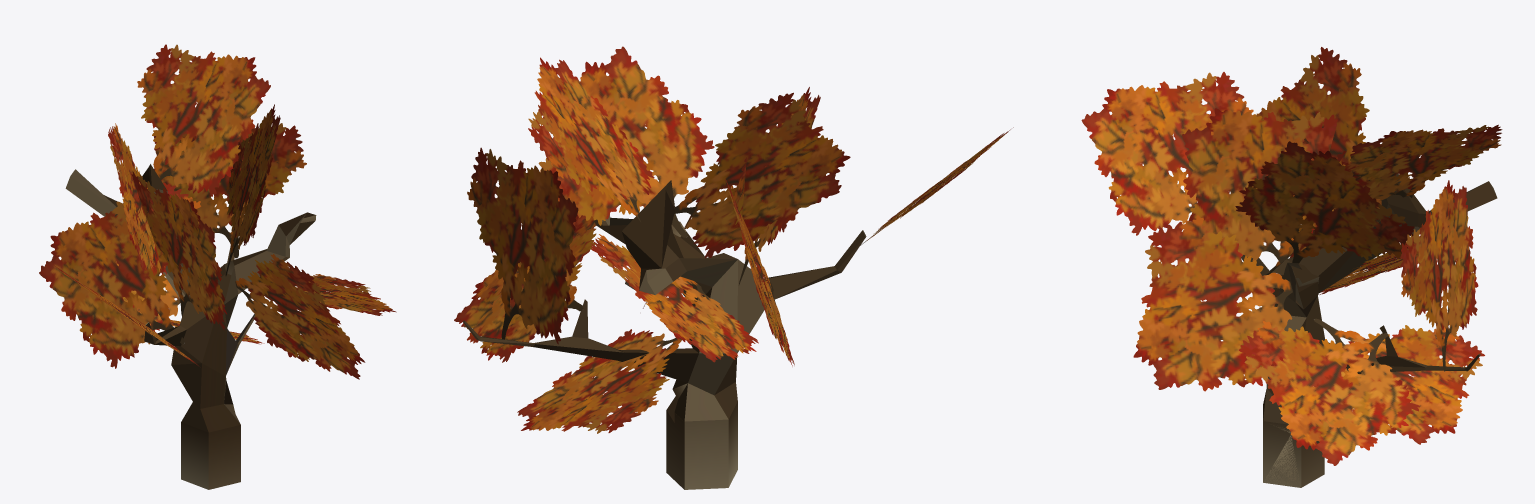
Rendered from puu.fbx.
3 renders of one model, left to right at view 1: azimuth 30°, elevation 25°; view 2: azimuth 150°, elevation 25°; view 3: azimuth 270°, elevation 25°, orthographic. The views are drawn at different scales.
Parts seen in each view (by area): view 1: Leaves, Tree; view 2: Leaves, Tree; view 3: Leaves, Tree.
Boxes of the visible parts, left/top/right/bottom form: Leaves: left=39, top=44, right=396, bottom=379; Tree: left=65, top=164, right=316, bottom=489; Leaves: left=454, top=46, right=1013, bottom=433; Tree: left=463, top=180, right=866, bottom=489; Leaves: left=1081, top=47, right=1502, bottom=465; Tree: left=1241, top=173, right=1497, bottom=487.
Bounding box in the file's own units: 4094 × 3506 × 3652.
Materials: 1 (1 with a texture image).
